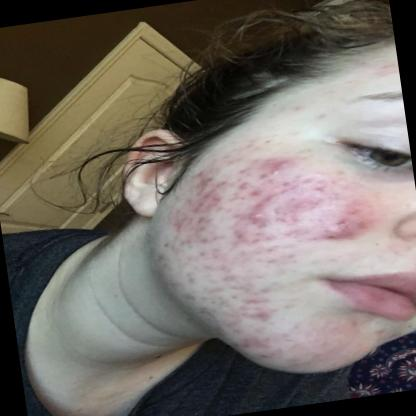Acne: (260, 150, 298, 178), (238, 210, 273, 228)
